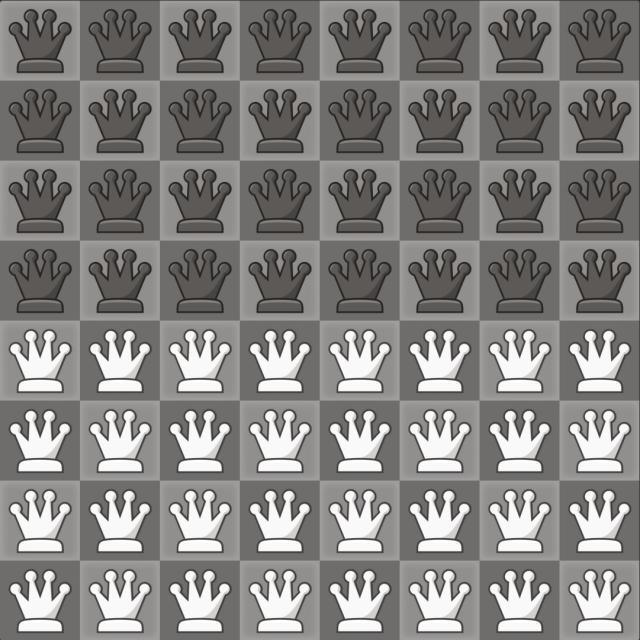black-queen: (8, 9, 72, 74), (89, 9, 153, 74), (168, 9, 232, 74), (248, 8, 312, 73), (328, 9, 392, 74), (408, 9, 472, 74), (488, 9, 552, 74), (568, 8, 632, 73), (568, 89, 632, 154), (488, 89, 552, 154), (248, 89, 312, 154), (89, 89, 153, 154), (8, 89, 72, 154), (8, 169, 72, 234), (89, 169, 153, 234), (168, 168, 232, 233), (248, 169, 312, 234), (328, 169, 392, 234), (408, 169, 472, 234), (488, 169, 552, 234), (568, 169, 632, 234), (568, 249, 632, 314), (488, 249, 552, 314), (408, 249, 472, 314), (328, 249, 392, 314), (248, 248, 312, 313), (168, 249, 232, 314), (89, 249, 153, 314), (8, 249, 72, 314), (408, 89, 472, 153), (328, 89, 392, 153), (169, 89, 233, 153)
white-queen: (9, 329, 73, 394), (88, 329, 152, 394), (9, 409, 73, 474), (89, 408, 153, 473), (169, 328, 233, 393), (168, 408, 232, 473), (8, 489, 72, 554), (88, 488, 152, 553), (169, 488, 233, 553), (248, 329, 312, 394), (328, 329, 392, 394), (408, 329, 472, 394), (488, 329, 552, 394), (568, 329, 632, 394), (568, 409, 632, 474), (488, 408, 552, 473), (409, 409, 473, 474), (329, 409, 393, 474), (249, 409, 313, 474), (248, 489, 312, 554), (328, 488, 392, 553), (408, 489, 472, 554), (488, 489, 552, 554), (568, 489, 632, 554), (568, 568, 632, 633), (488, 569, 552, 634), (408, 568, 472, 633), (328, 568, 392, 633), (249, 568, 313, 633), (169, 568, 233, 633), (89, 569, 153, 634), (9, 569, 73, 634)
